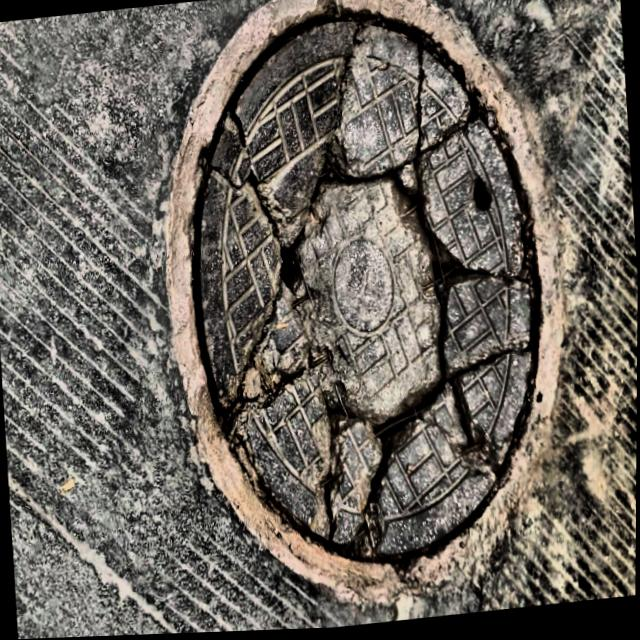open_manhole: (193, 23, 539, 562)
